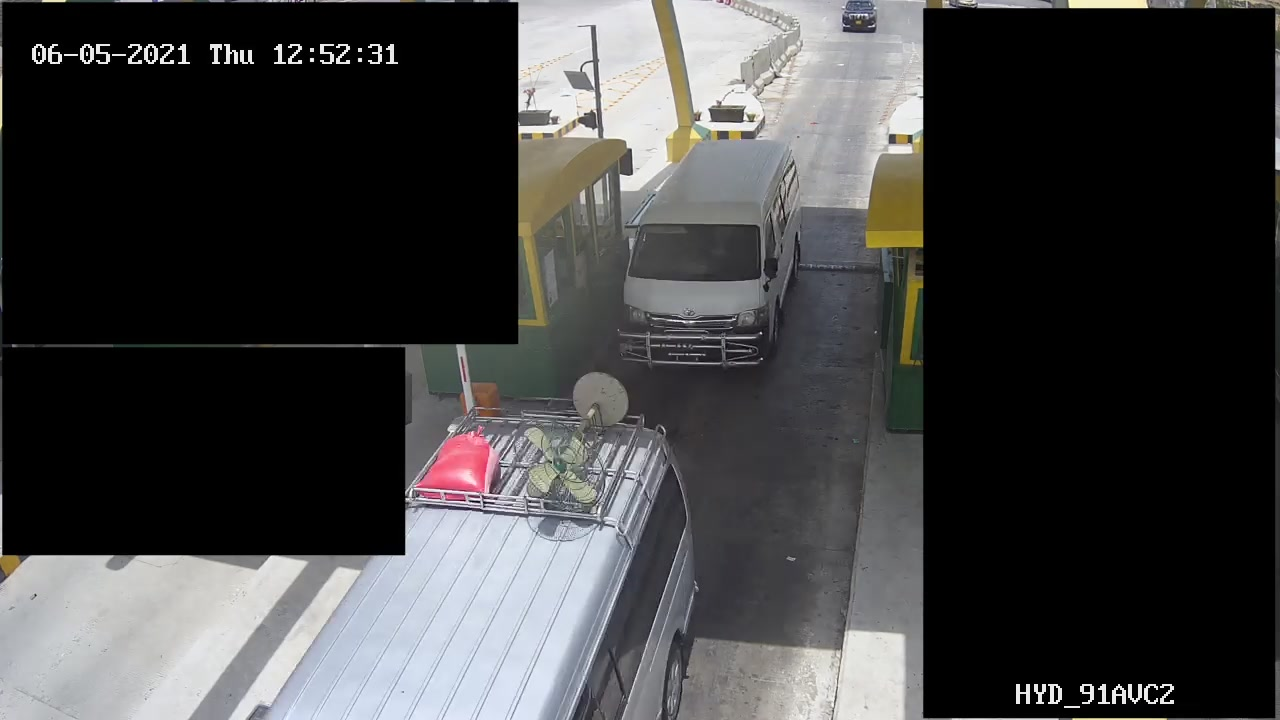F2: (622, 125, 802, 380)
